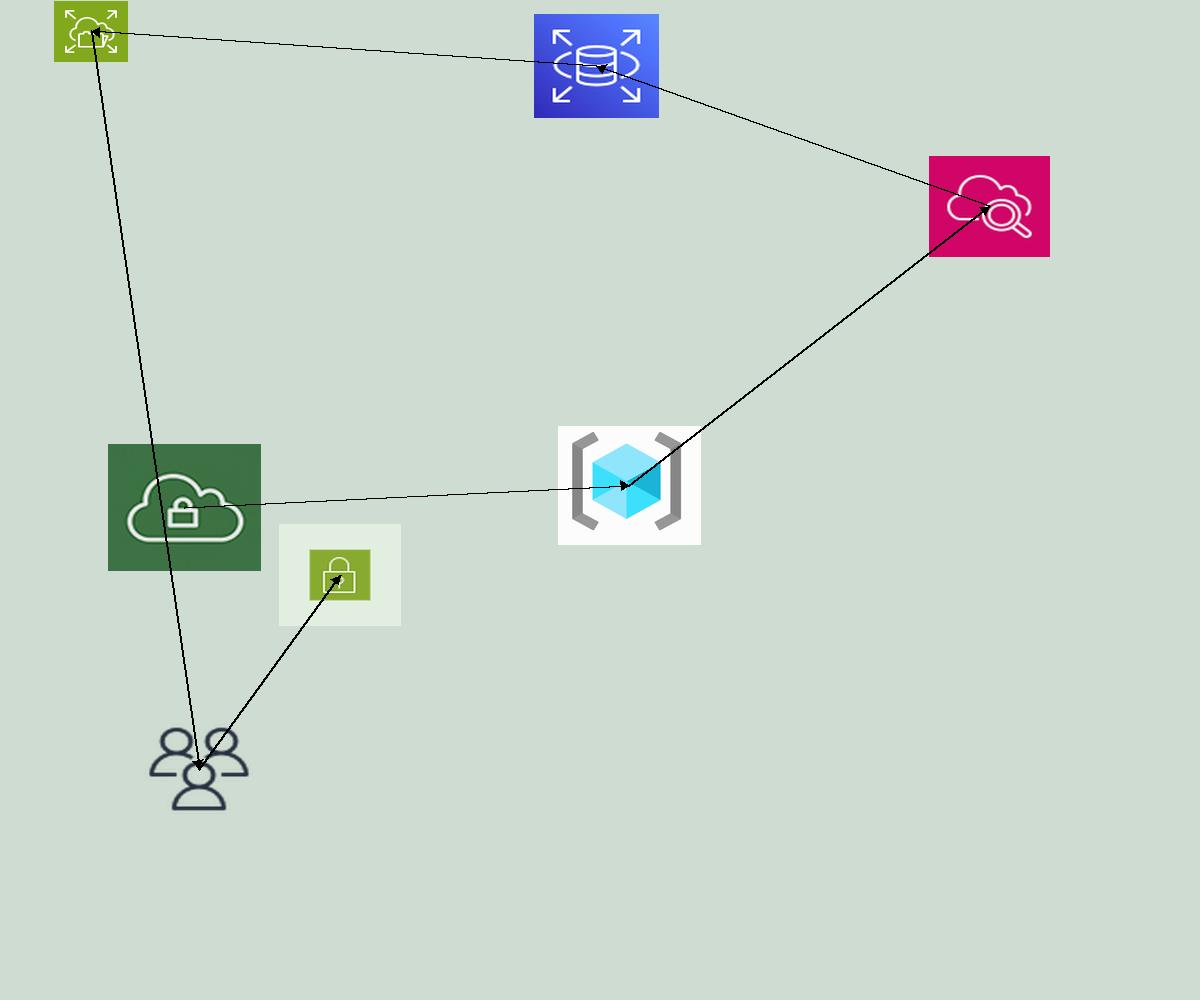AWS-CloudWatch: (929, 156, 1050, 257)
AWS-EFS: (54, 1, 128, 62)
AWS-Private_vpc: (108, 444, 261, 571)
AWS-Public-subnet: (279, 524, 401, 626)
AWS-RDS: (534, 14, 659, 118)
AWS-Res_Users: (145, 724, 253, 814)
Azure_resource_group: (558, 426, 701, 545)
